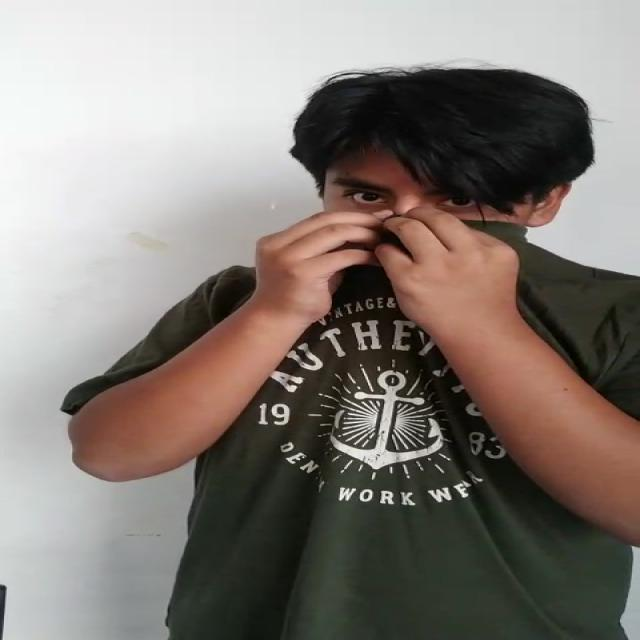8_ropa_rostro: (240, 210, 640, 370)
